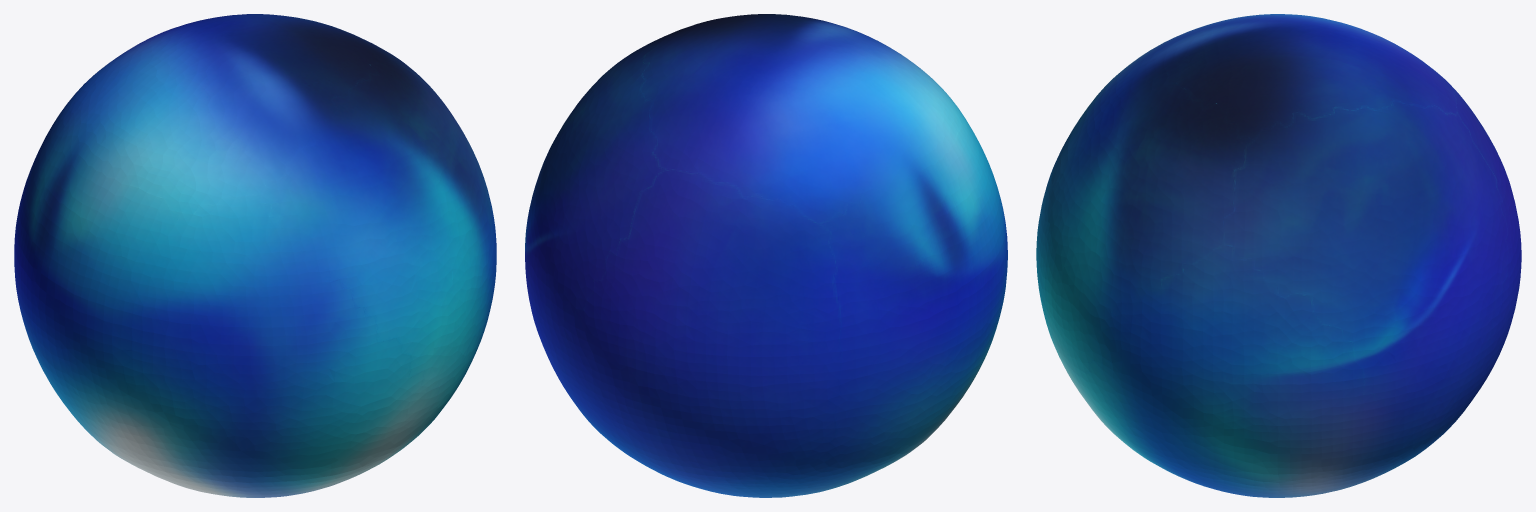
3 renders of one model, left to right at view 1: azimuth 30°, elevation 25°; view 2: azimuth 150°, elevation 25°; view 3: azimuth 270°, elevation 25°, orthographic.
Parts seen in each view (by area): view 1: world; view 2: world; view 3: world.
Boxes of the visible parts, x1,y1,x2,y2 form: world: (14,14,496,497); world: (525,14,1007,497); world: (1036,14,1521,497).
Size of the model in its own units: 0.7292 by 0.7274 by 0.73.
1 material, 1 textured.
